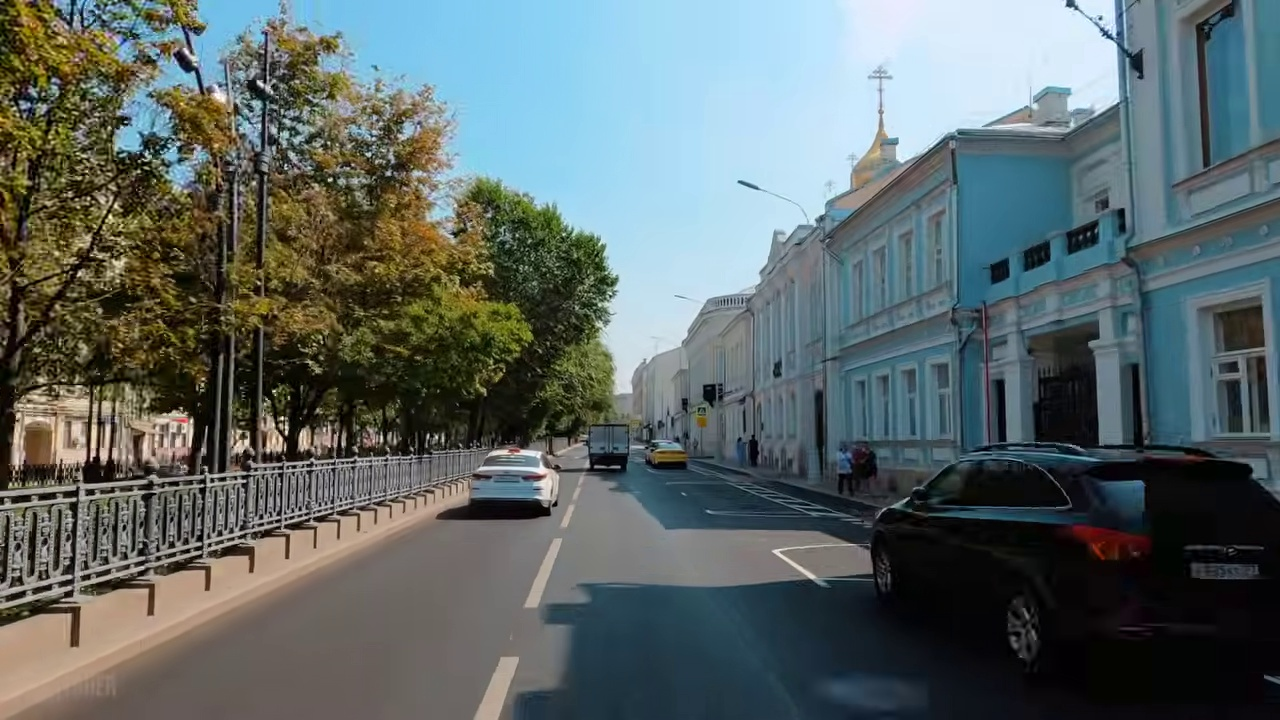apagada: (733, 171, 762, 195)
